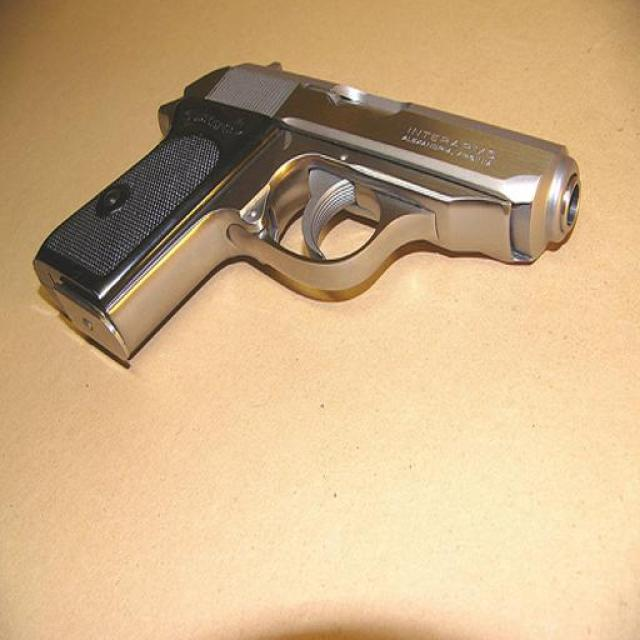pistol: (30, 58, 582, 366)
